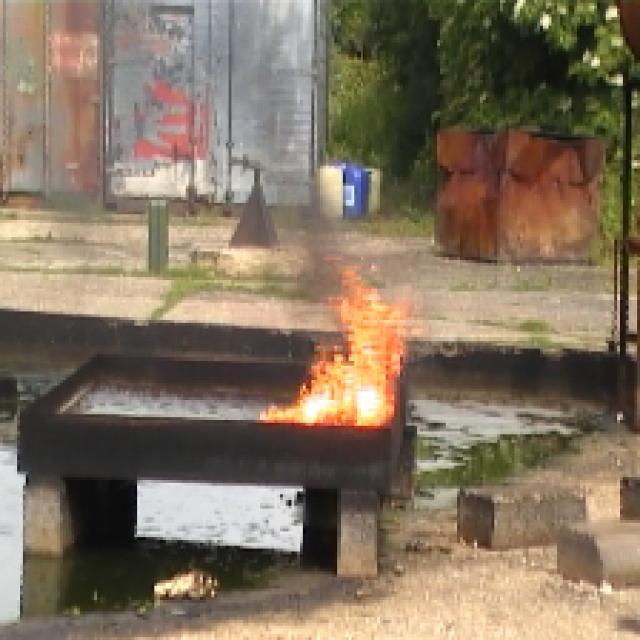fire: (309, 300, 398, 434)
